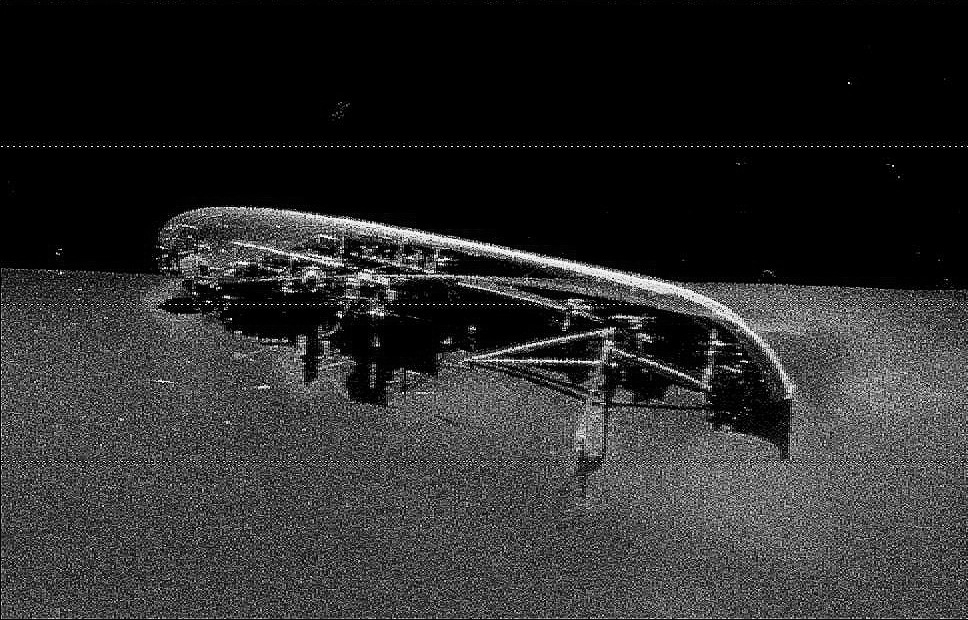ship: (149, 190, 802, 466)
